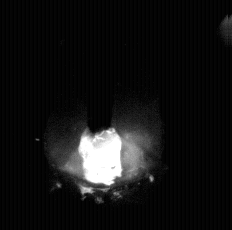arame: (87, 0, 114, 137)
poca: (46, 0, 160, 230)
